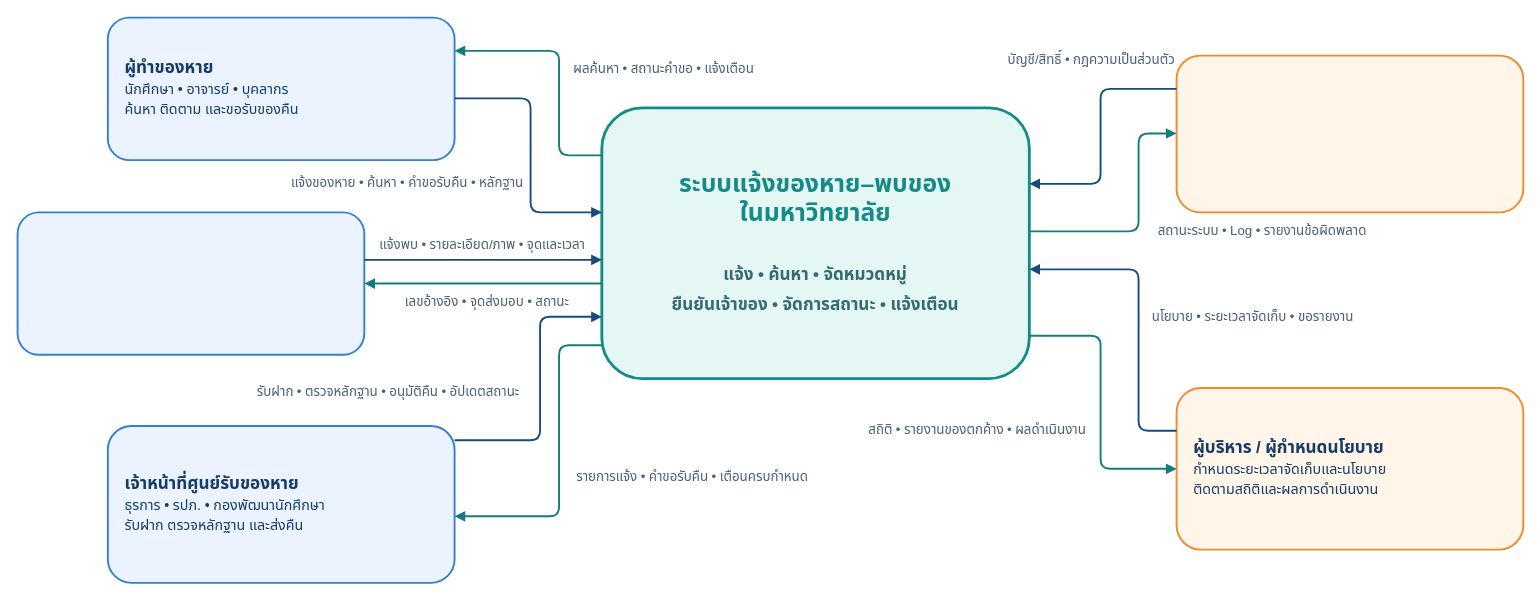
This 1540x599 diagram has some shape labels left out. Here are the shapes that lost their labels. From the top down, the centre of each, then its label:
At point 1349,133: "ผู้ดูแลระบบ จัดการบัญชี บทบาท และสิทธิ์ ดูแลความปลอดภัยและความเป็นส่วนตัว".
At point 190,283: "ผู้พบของ นักศึกษา • แม่บ้าน • บุคคลภายนอก แจ้งข้อมูลและส่งมอบสิ่งของ".
